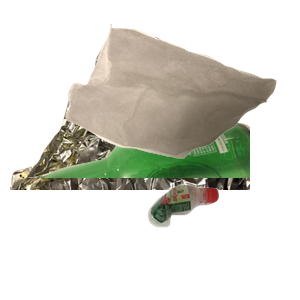glass: (23, 120, 263, 300)
metal: (10, 32, 250, 212)
plastic: (146, 182, 300, 300)
trash: (63, 21, 300, 172)
